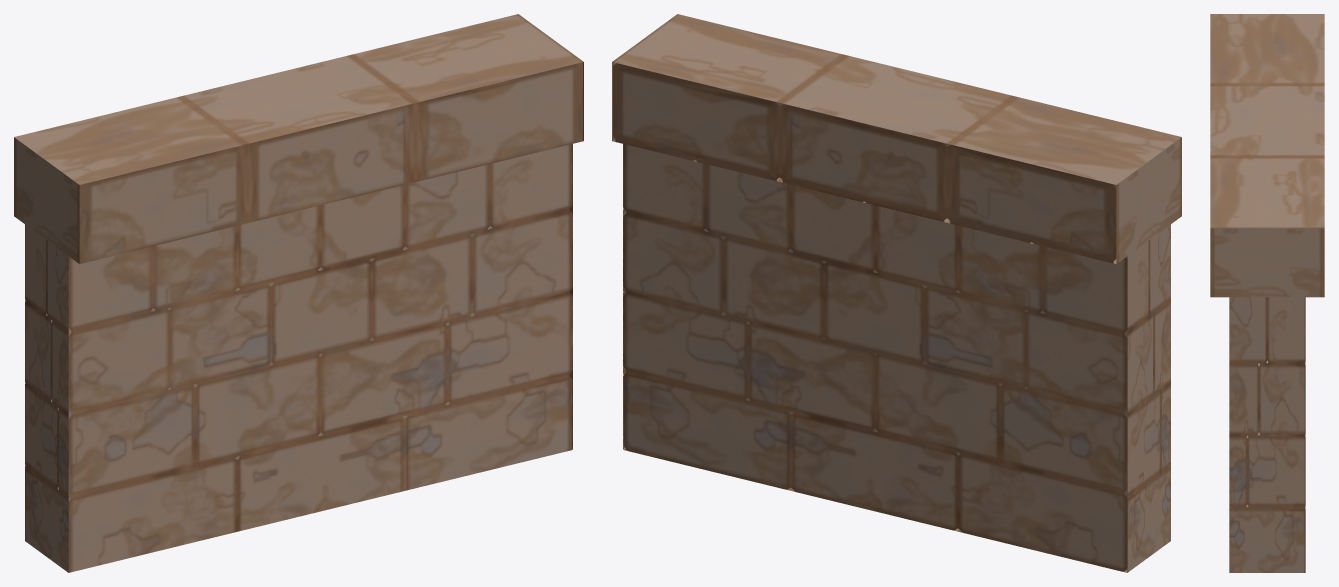
Rendered from OP-Brick.fbx.
3 views of the same model, side by side, from view 1: azimuth 30°, elevation 25°; view 2: azimuth 150°, elevation 25°; view 3: azimuth 270°, elevation 25° (orthographic). The views are drawn at different scales.
Parts seen in each view (by area): view 1: OP-Brick_Fence; view 2: OP-Brick_Fence; view 3: OP-Brick_Fence.
Part boxes in pixels (left/top/right/bottom): OP-Brick_Fence: left=14, top=14, right=583, bottom=572; OP-Brick_Fence: left=612, top=14, right=1181, bottom=572; OP-Brick_Fence: left=1210, top=14, right=1324, bottom=572.
Bounding box in the file's own units: 200 × 150 × 45.
